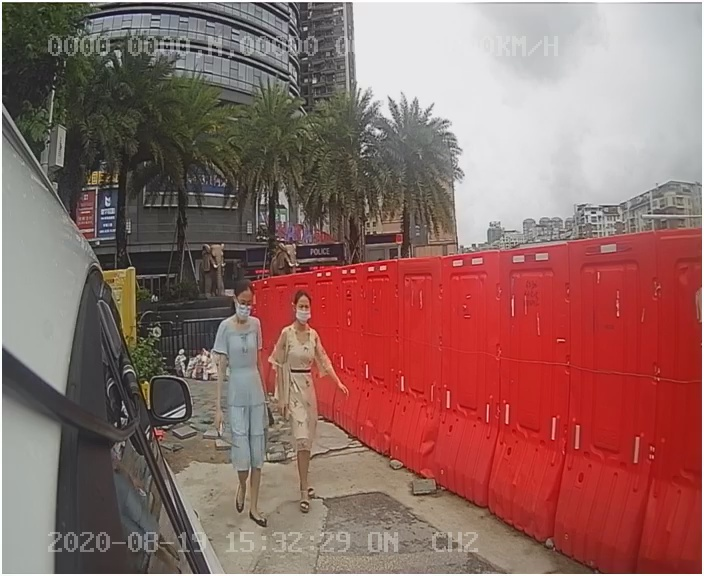person: (265, 287, 368, 521), (204, 285, 287, 528)
